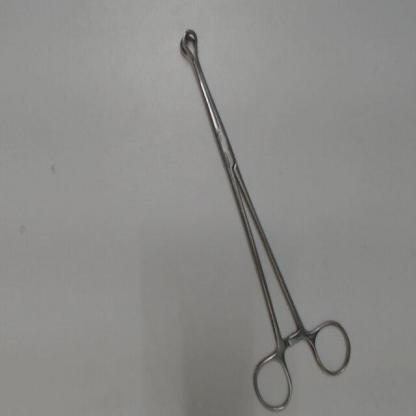8 Babcock Tissue Forceps: (173, 18, 357, 413)
